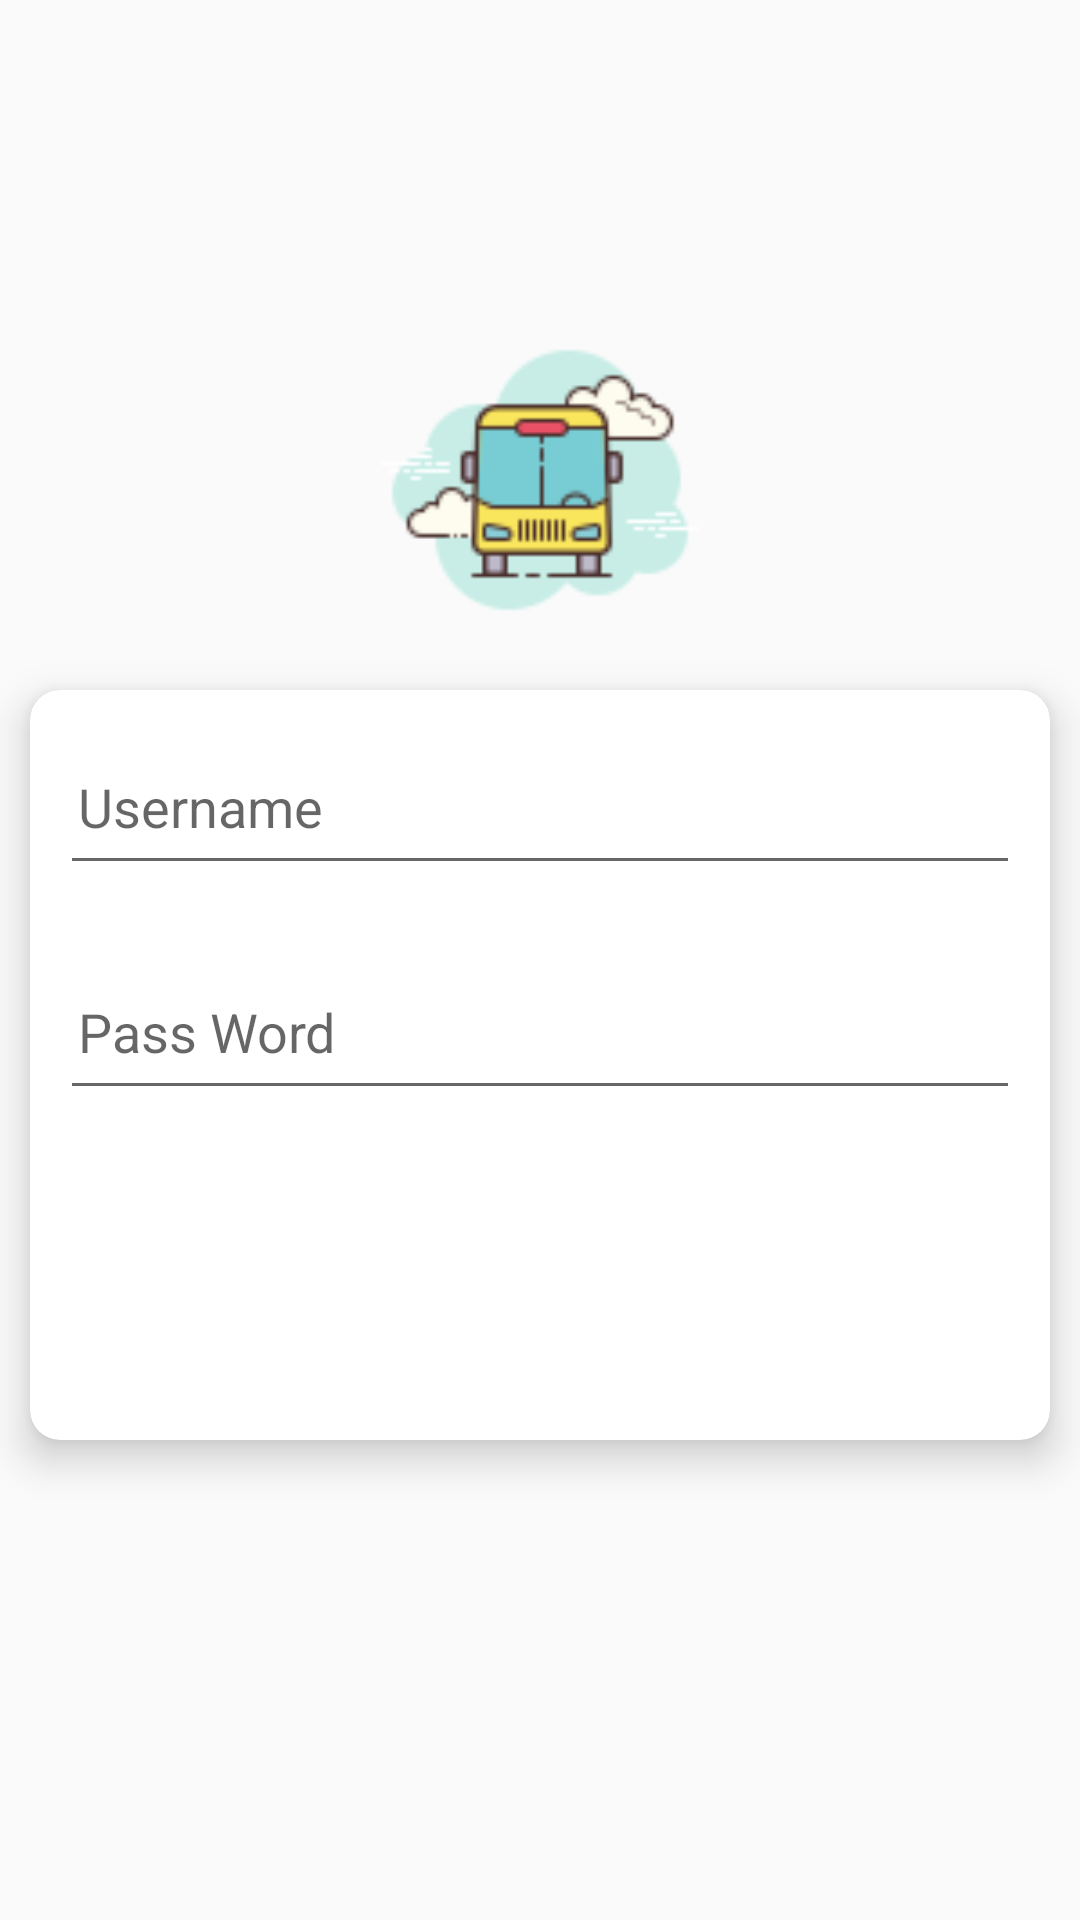

Named icons in this screenshot (1080 × 1920) and their centers, [x,y]:
bus: [540,480]
